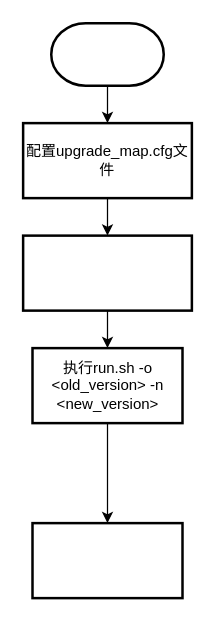
This 214x620 diagram has some shape labels left out. The shapes that lost their labels are listed below. From the top down, each one's box as (x1, y1, x2, y2) in pixels, then its label:
(49, 21, 164, 86): 开始
(21, 234, 192, 311): 配置file_forced_coverage.cfg 文件
